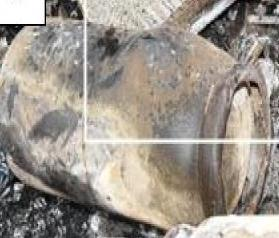cylinder: (1, 1, 279, 238)
